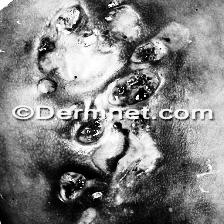Non-Cancerous Skin Condition: (24, 3, 205, 100), (45, 126, 204, 224)
